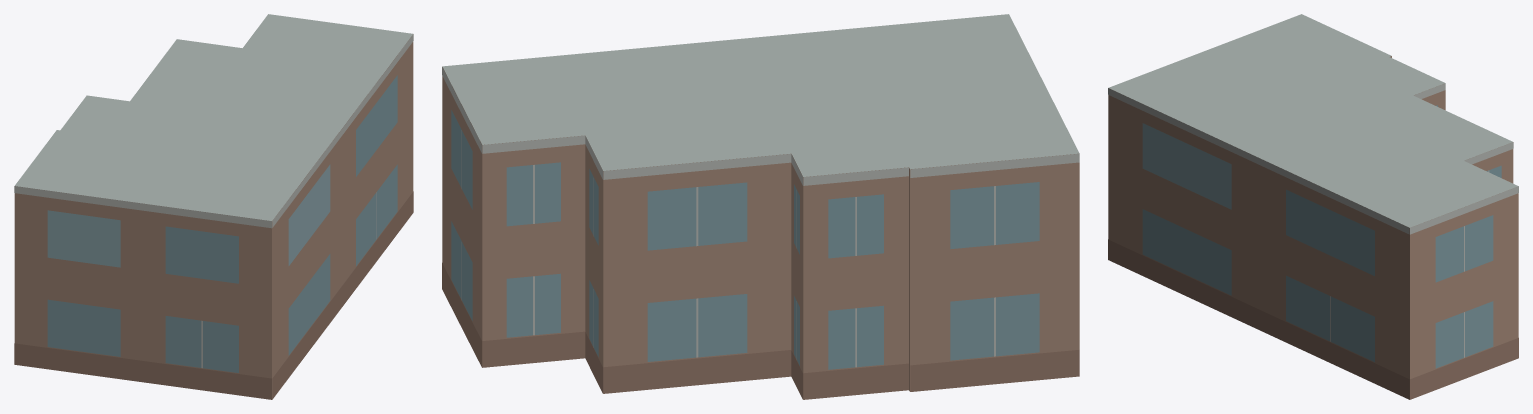
File: survey-upis-33026082.glb
The picture shows the model from 3 angles, left to right: view 1: azimuth 30°, elevation 25°; view 2: azimuth 150°, elevation 25°; view 3: azimuth 270°, elevation 25°; orthographic projection. The views are drawn at different scales.
Visible parts, largest first — view 1: survey-upis-33026082.tmp; view 2: survey-upis-33026082.tmp; view 3: survey-upis-33026082.tmp.
Boxes of the visible parts, <box> form: survey-upis-33026082.tmp: <box>14,14,413,399</box>; survey-upis-33026082.tmp: <box>442,14,1079,399</box>; survey-upis-33026082.tmp: <box>1108,14,1518,399</box>.
Size of the model in its own units: 16.27 by 6.1 by 13.2.
